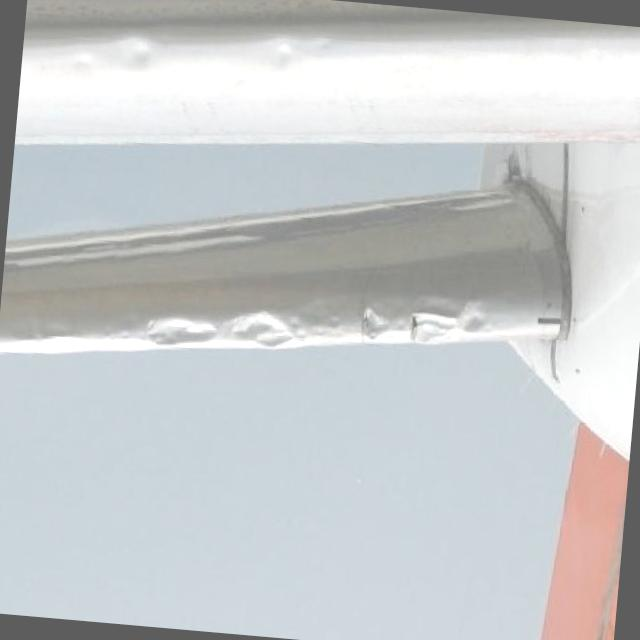dent: (223, 308, 290, 349), (144, 315, 218, 349), (119, 38, 159, 74), (412, 306, 450, 342), (452, 302, 491, 336), (360, 310, 387, 340), (272, 42, 293, 70), (68, 54, 92, 70), (328, 316, 343, 339), (288, 321, 304, 342), (312, 324, 322, 336)
